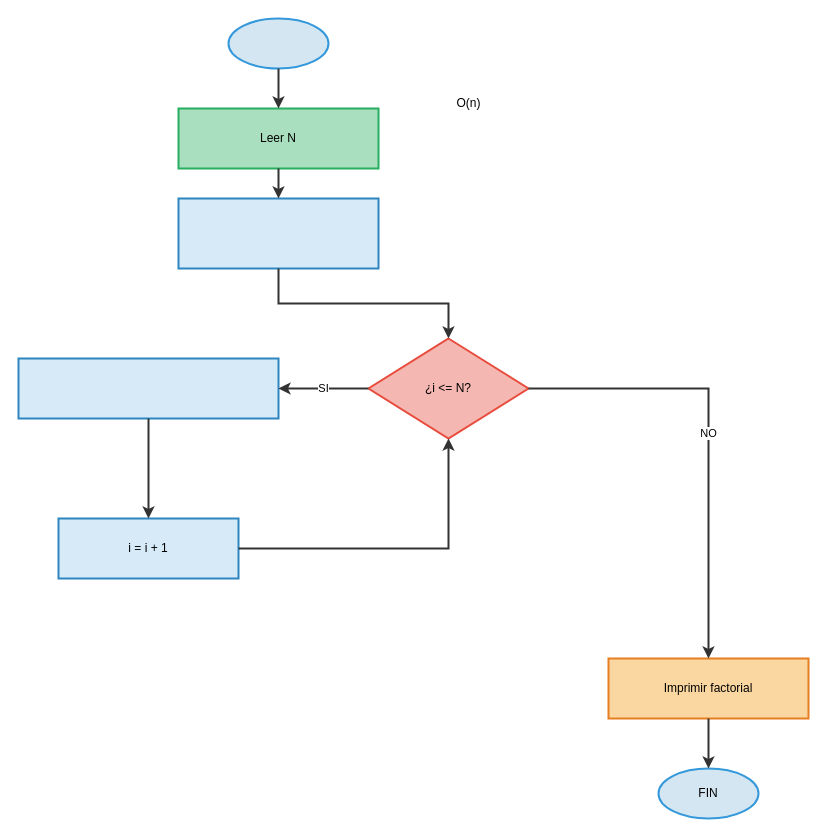
Some shapes in this 826 by 836 pixel diagram are drawn without their labels. The shapes that lost their labels are listed below. From the top down, each one's box as (x1, y1, x2, y2) in pixels, then its label:
(227, 17, 329, 69): INICIO
(177, 197, 379, 269): factorial = 1\ni = 2
(17, 357, 279, 419): factorial = factorial * i
